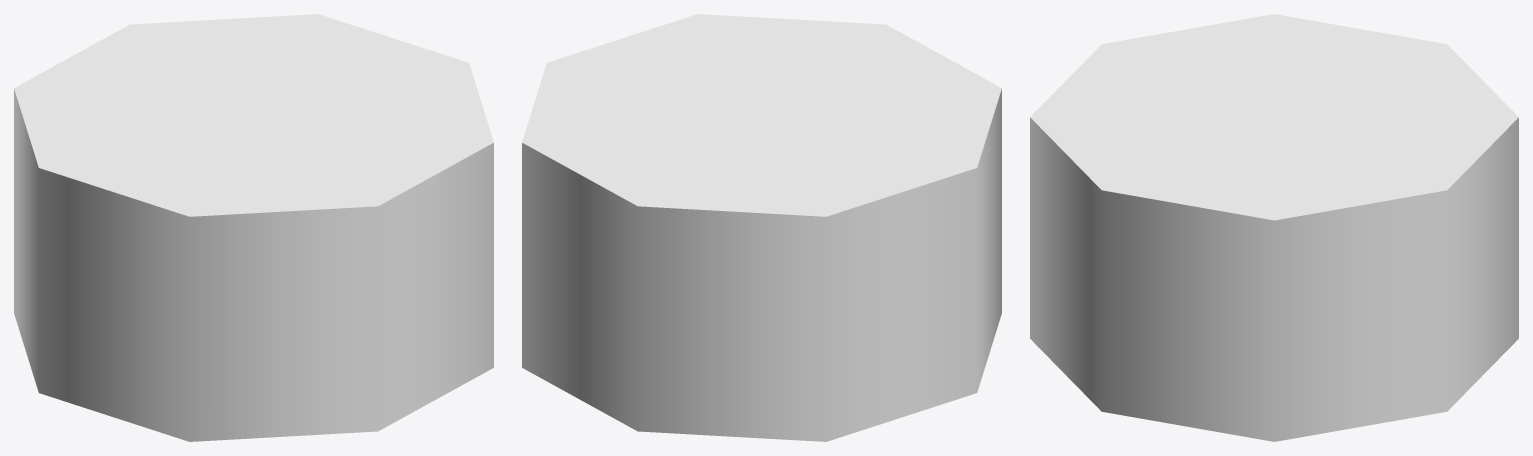
Rendered from hati.FBX.
3 renders of one model, left to right at view 1: azimuth 30°, elevation 25°; view 2: azimuth 150°, elevation 25°; view 3: azimuth 270°, elevation 25°, orthographic.
Parts seen in each view (by area): view 1: Cylinder001; view 2: Cylinder001; view 3: Cylinder001.
Part boxes in pixels (<box>): Cylinder001: <box>14,14,493,441</box>; Cylinder001: <box>522,14,1001,441</box>; Cylinder001: <box>1030,14,1518,441</box>.
Bounding box in the file's own units: 2 × 1 × 2.
1 material, 1 textured.
